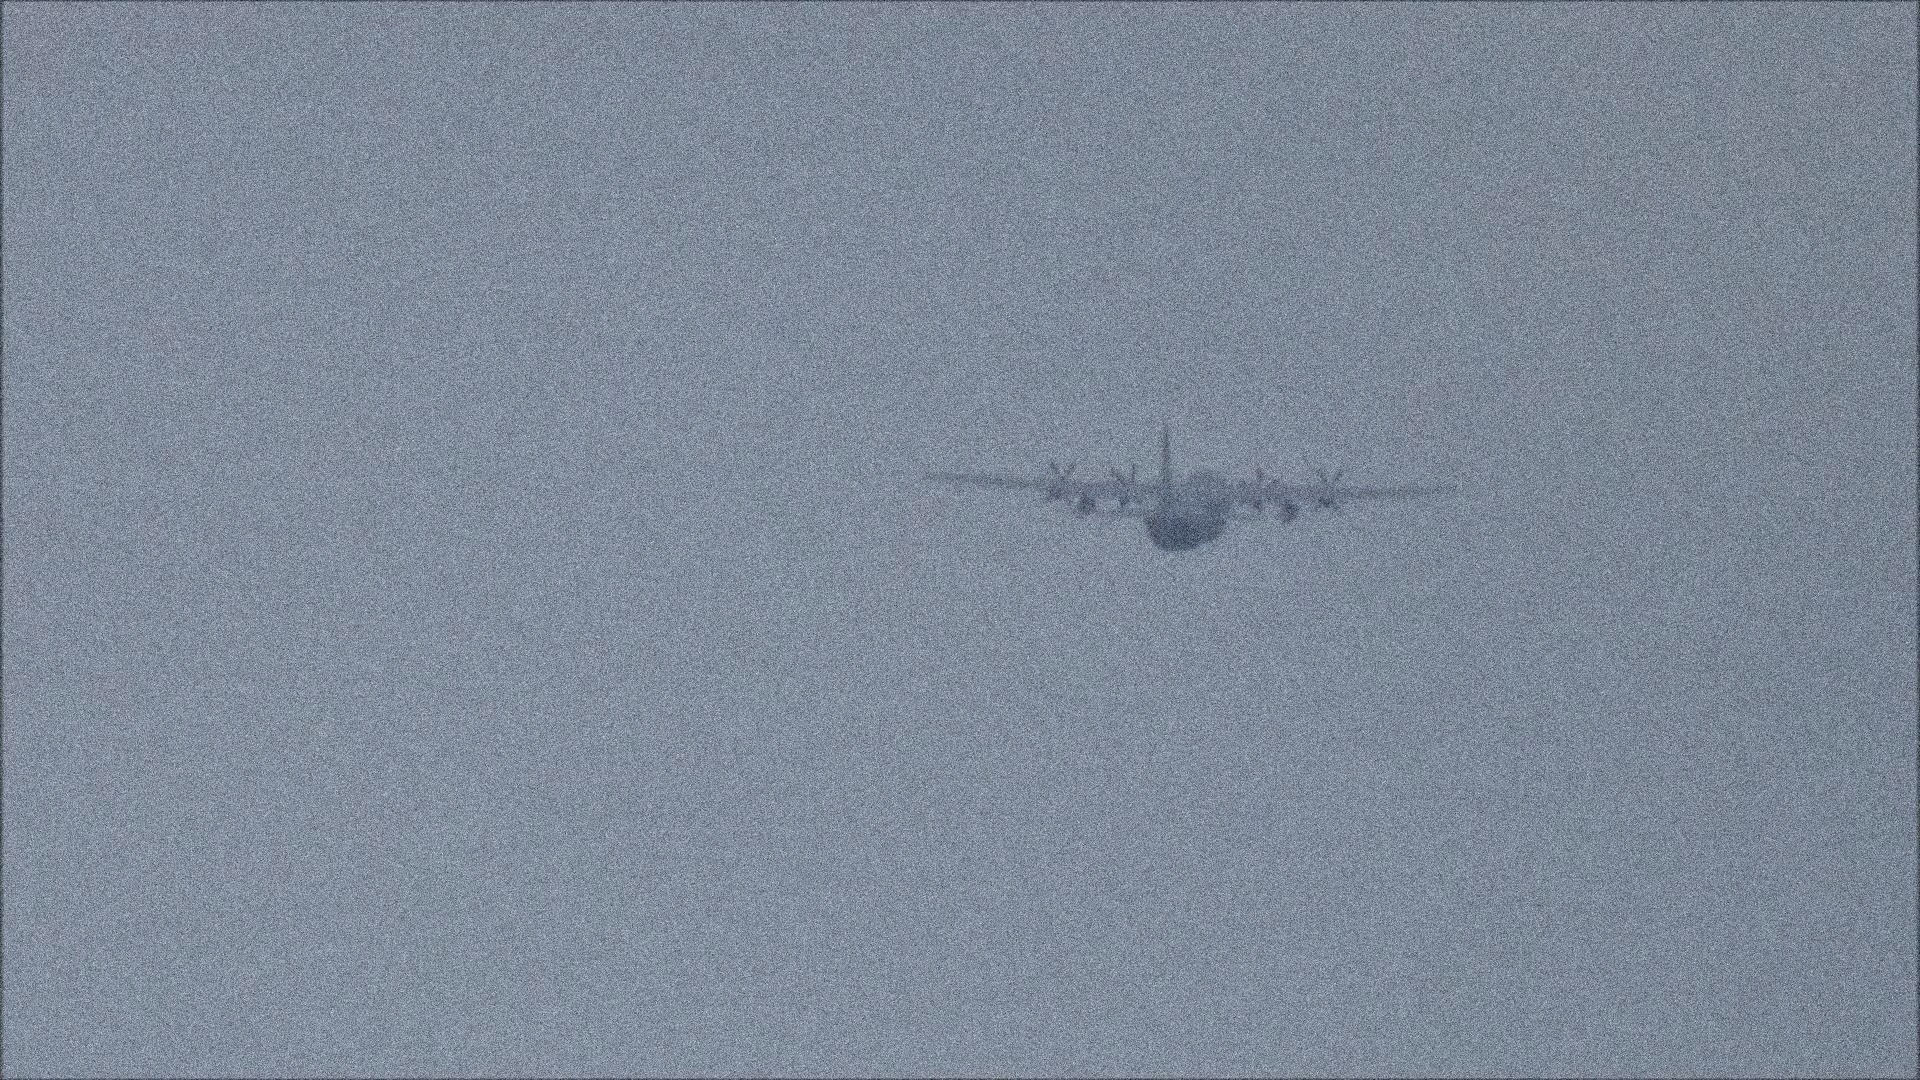Airplane: (924, 421, 1458, 558)
